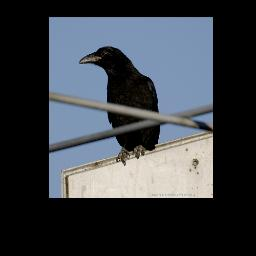Crow: (78, 45, 162, 165)
